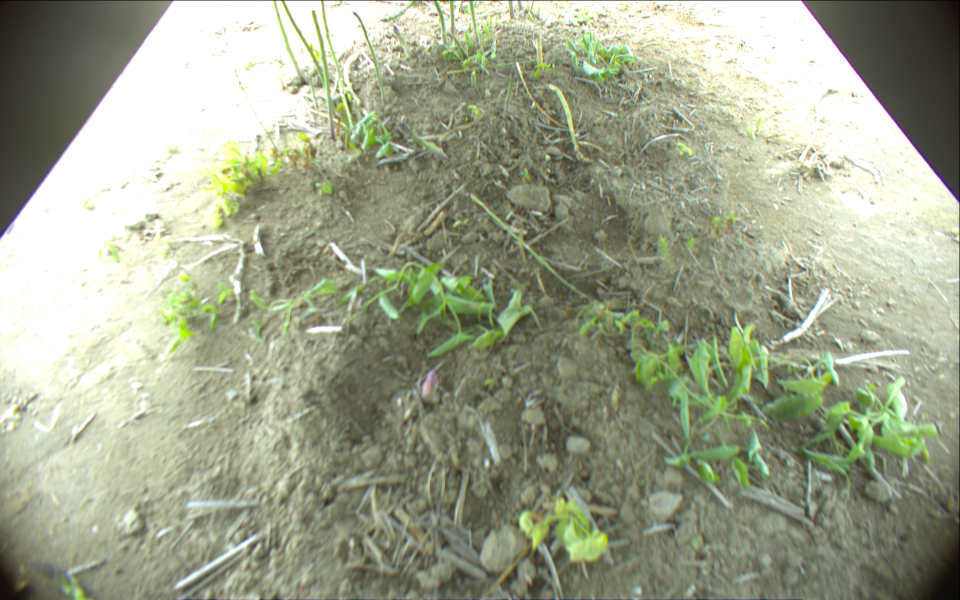aspa: (468, 193, 618, 313), (233, 61, 283, 156), (321, 1, 357, 130), (282, 1, 326, 88), (547, 84, 592, 162), (515, 63, 567, 129), (312, 12, 337, 140), (352, 11, 385, 104), (275, 1, 304, 82), (446, 57, 536, 74), (393, 24, 414, 61), (380, 1, 415, 22), (468, 1, 482, 52), (433, 1, 446, 46), (447, 32, 470, 56), (308, 73, 320, 111), (534, 35, 544, 64), (449, 1, 454, 46), (507, 1, 515, 18), (517, 1, 523, 16)
